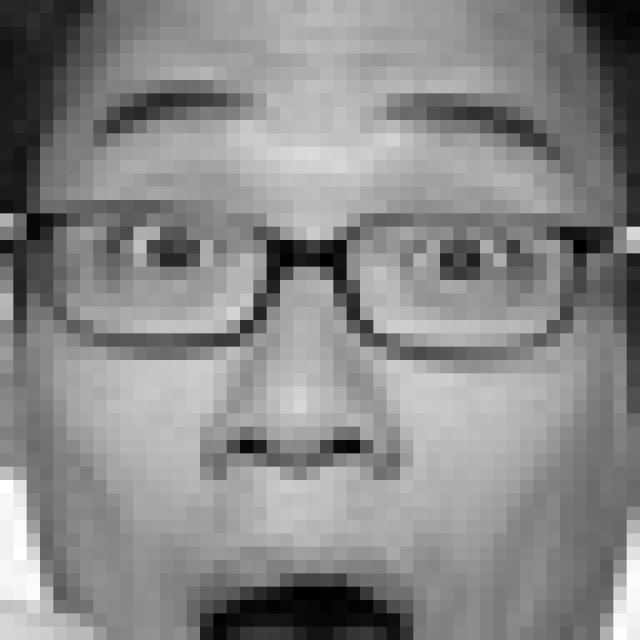surprise: (77, 76, 590, 640)
